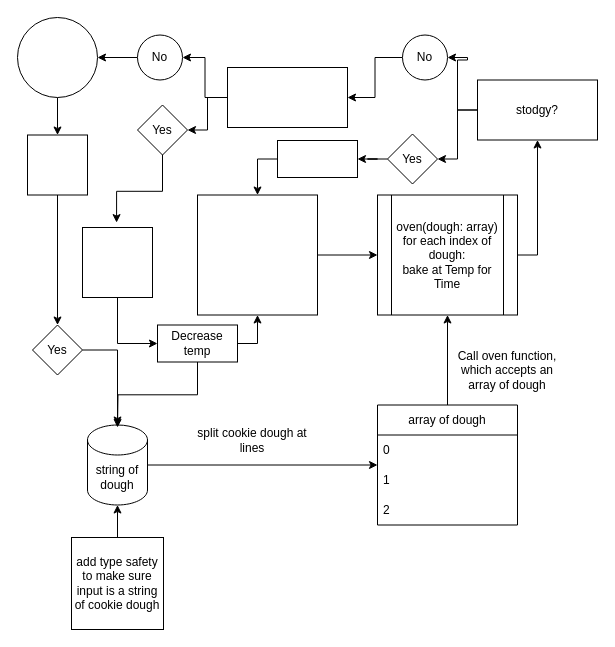
Image size: 615x647. Some labels were removed from this diagram. The centre of each missing label's shape, as x and y in pixels:
"Configuration Temp: 400 degrees Time: 10 minutes" belongs at [257,254].
"cookies < mouths?" belongs at [57,164].
"Increase time" belongs at [317,159].
"output to table" belongs at [57,57].
"overbaked" belongs at [287,97].
"throw away" belongs at [117,262].
